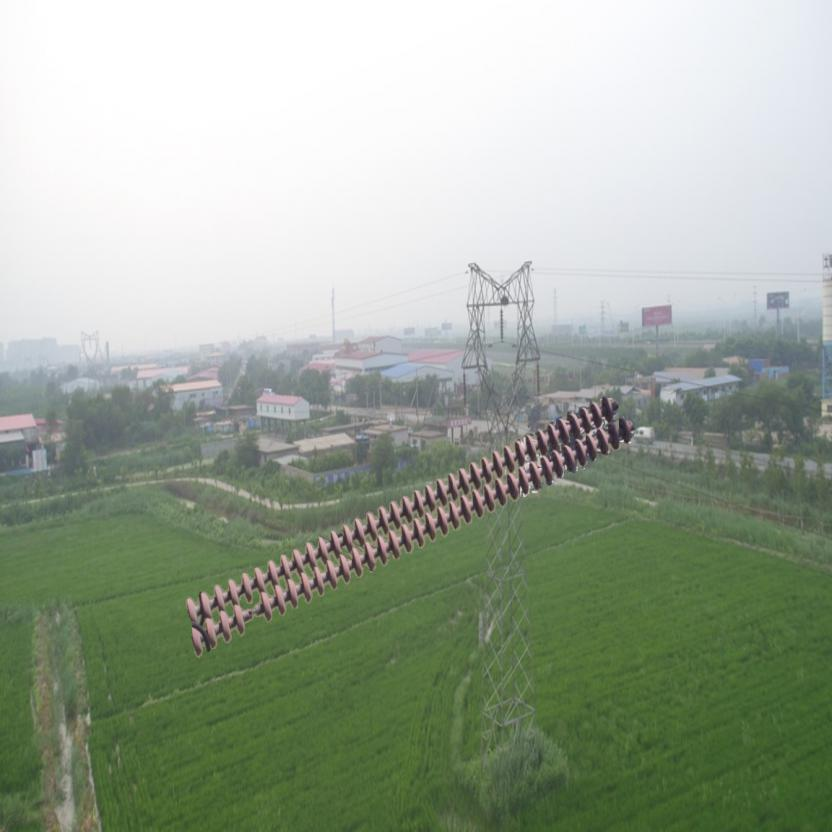defect: (228, 585, 274, 634)
